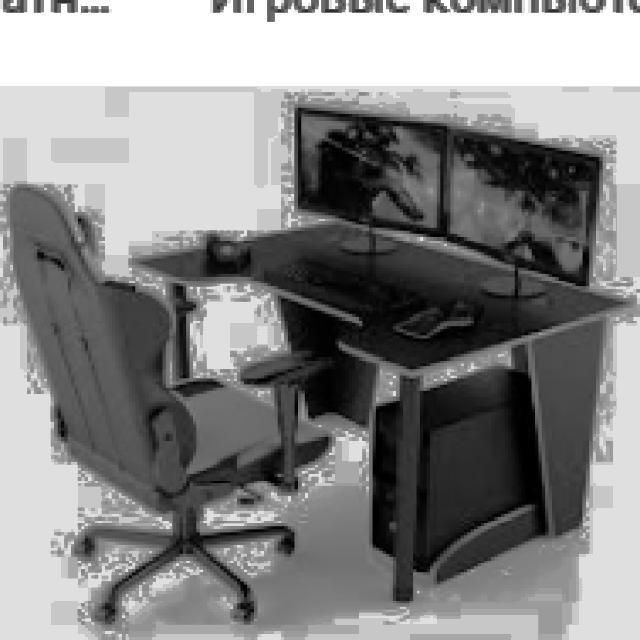book: (7, 182, 298, 624)
table: (129, 215, 630, 600)
